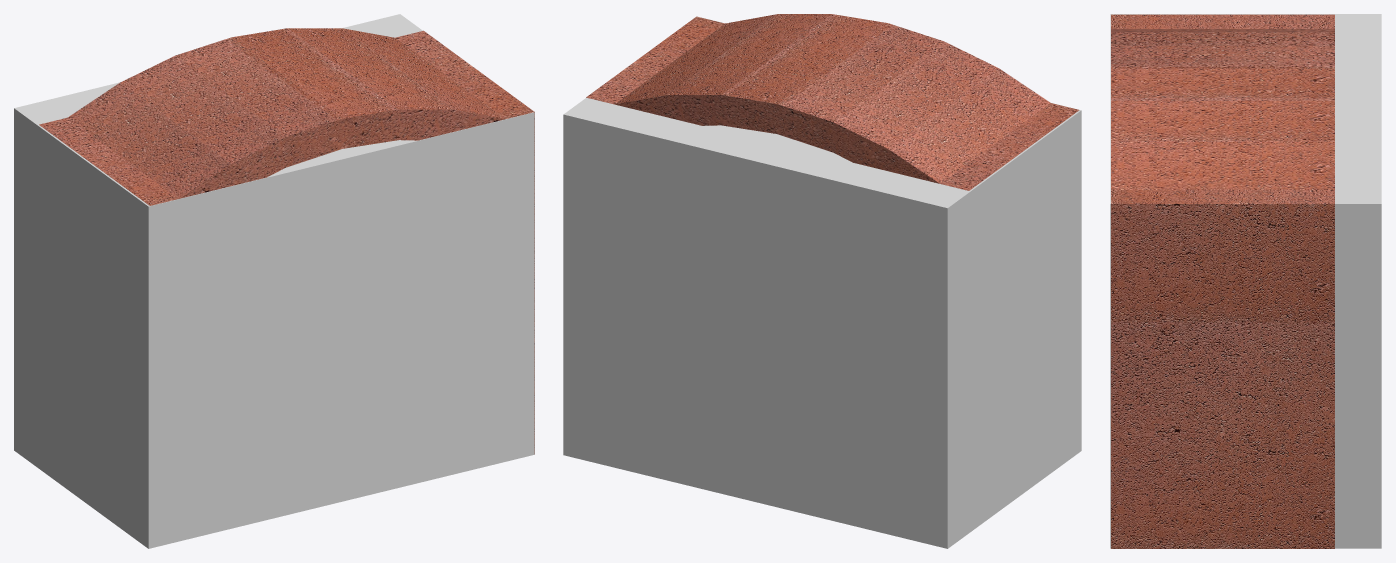
Rendered from BLCR342_3.glb.
The picture shows the model from 3 angles, left to right: view 1: azimuth 30°, elevation 25°; view 2: azimuth 150°, elevation 25°; view 3: azimuth 270°, elevation 25°; orthographic projection.
Visible parts, largest first — view 1: _bb, clay; view 2: _bb, clay; view 3: clay, _bb.
Boxes of the visible parts, x1=… form: _bb: x1=14, y1=14, x2=534, y2=548; clay: x1=39, y1=28, x2=534, y2=454; _bb: x1=563, y1=16, x2=1081, y2=548; clay: x1=586, y1=14, x2=1079, y2=190; clay: x1=1111, y1=14, x2=1334, y2=548; _bb: x1=1110, y1=14, x2=1381, y2=548.
Size of the model in its own units: 0.4017 by 0.38 by 0.242.
Materials: 1 (1 with a texture image).
